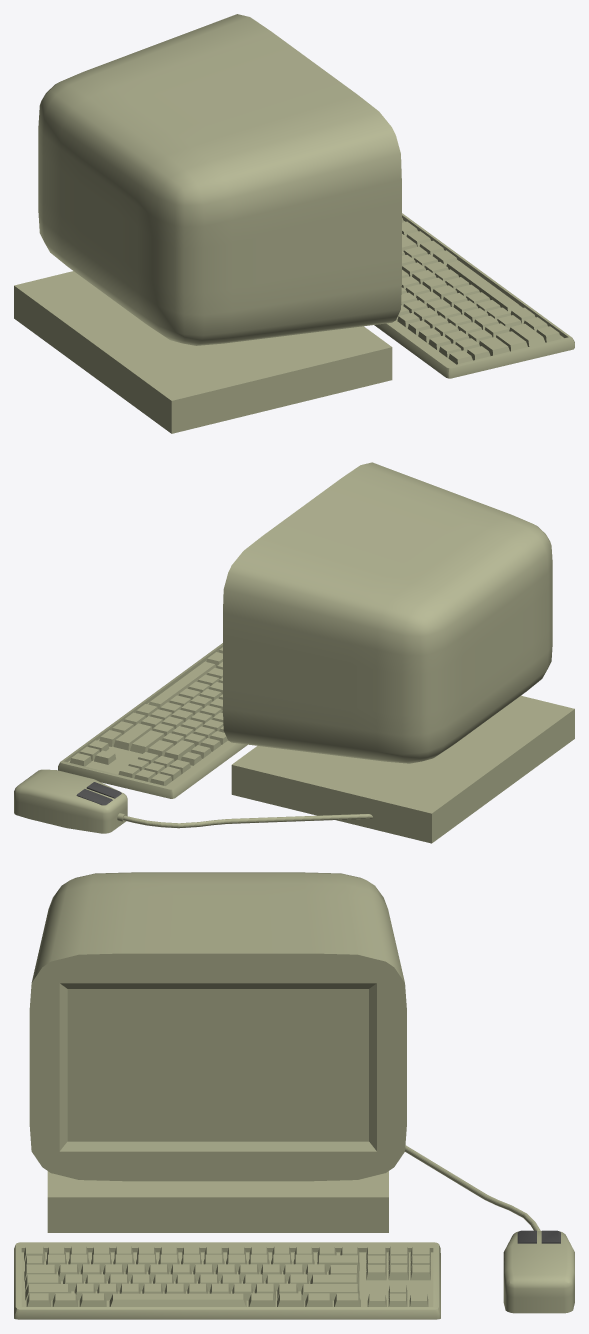
File: computer.fbx
The picture shows the model from 3 angles, top to bottom: view 1: azimuth 30°, elevation 25°; view 2: azimuth 150°, elevation 25°; view 3: azimuth 270°, elevation 25°; orthographic projection. The views are drawn at different scales.
Parts seen in each view (by area): view 1: Cube, Cube.002, keyboard; view 2: Cube, Cube.002, keyboard, Cube.003, Cylinder, Cube.004; view 3: Cube, keyboard, Cube.002, Cube.003, Cylinder.
Part boxes in pixels (x1,y1,x2,y2): Cube: (38,14,401,345); Cube.002: (14,271,392,433); keyboard: (374,213,574,378); Cube: (223,462,552,763); Cube.002: (231,695,574,843); keyboard: (58,643,247,798); Cube.003: (14,769,127,833); Cylinder: (123,814,372,828); Cube.004: (76,782,126,821); Cube: (29,872,406,1181); keyboard: (14,1242,440,1319); Cube.002: (47,1171,388,1232); Cube.003: (503,1231,574,1313); Cylinder: (405,1145,540,1230).
Size of the model in its own units: 258 by 164 by 297.
